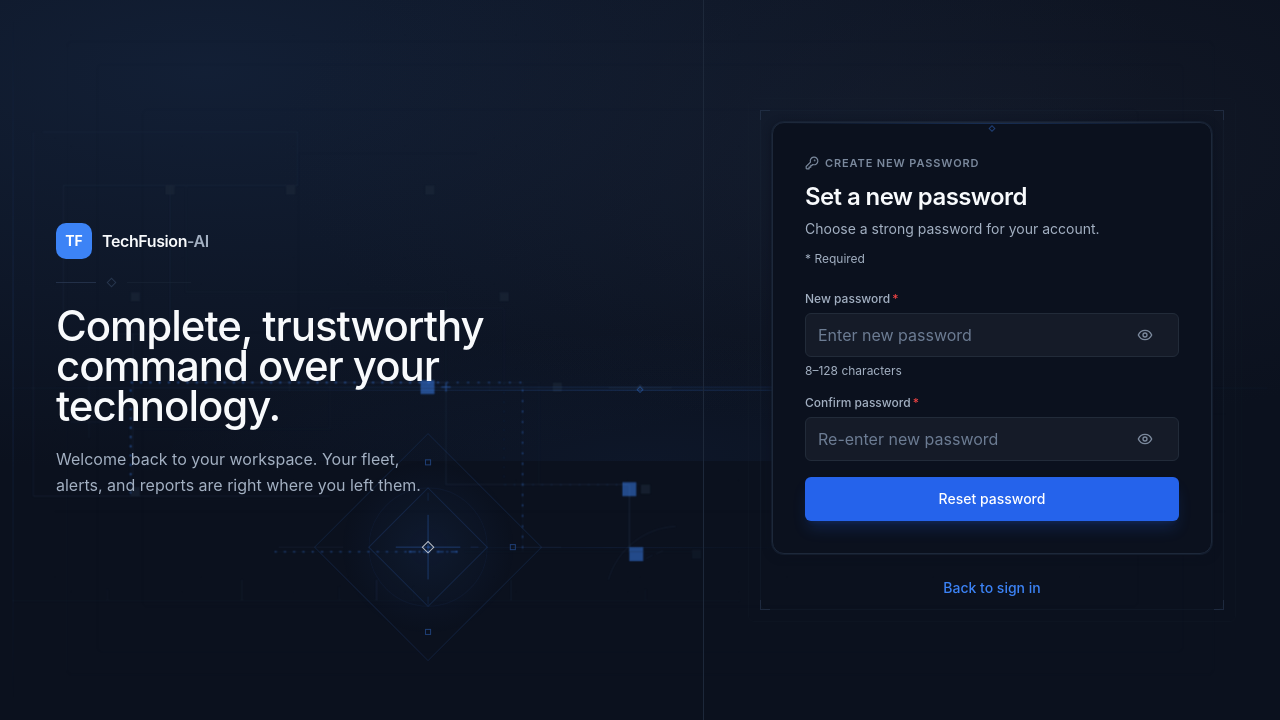
Test case: ResetPasswordForm -- validation › 14: rejects short password on submit
This screenshot has width=1280, height=720.
Type "short" into the password field labelled "New password*".
click(992, 335); type("short")  # box [805,313,1179,357]
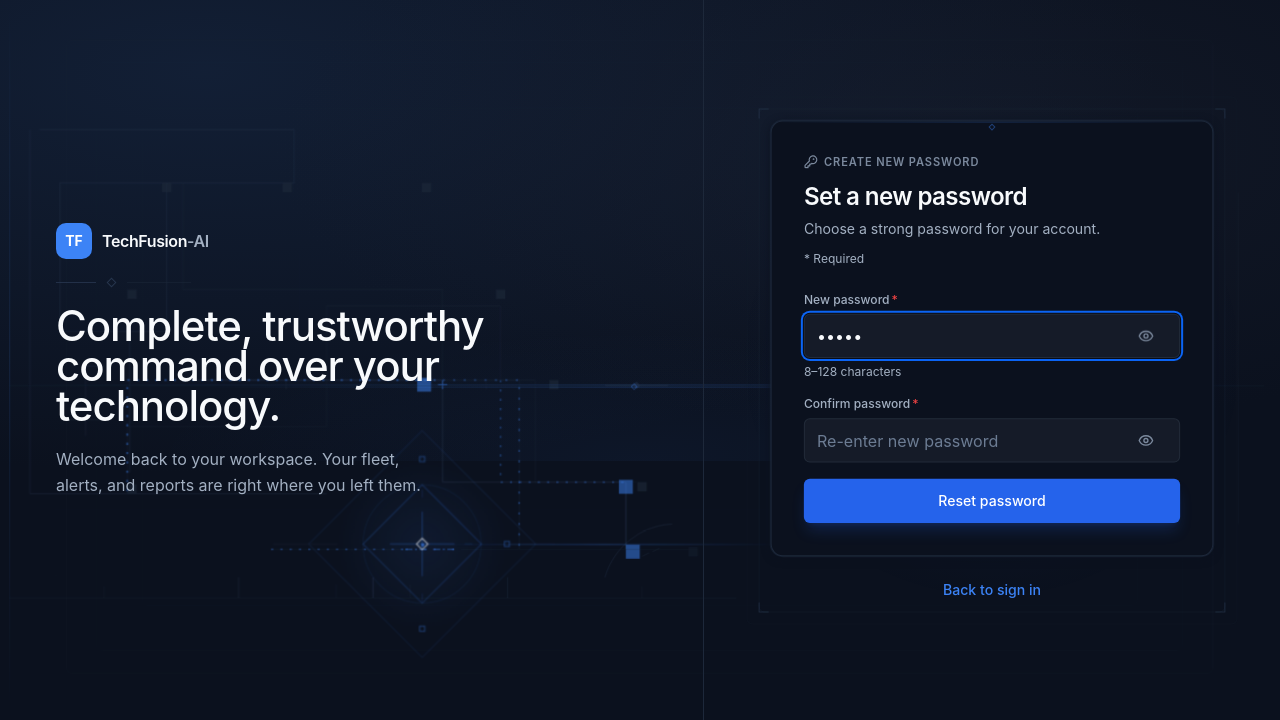
Click the button "Reset password".
click(992, 500)  # box [804,478,1180,522]
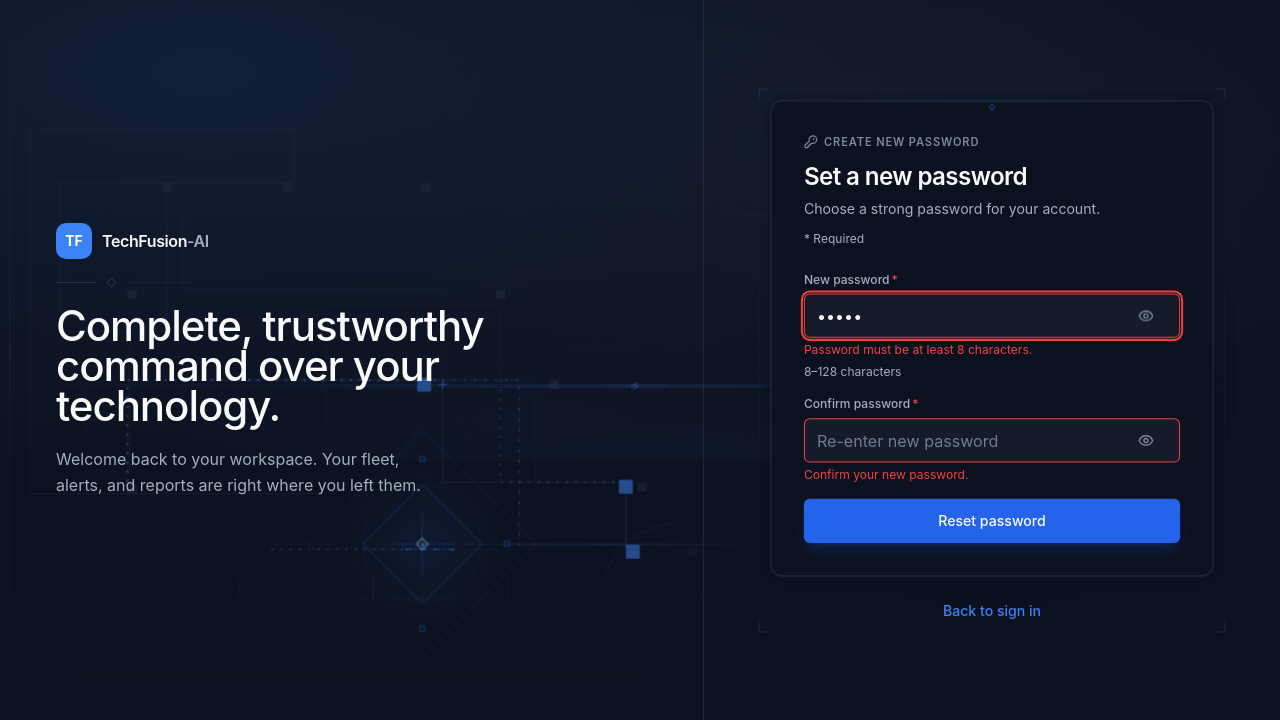
Expected: the text "Password must be at least 8 characters." is shown, [804,341,1032,356]
